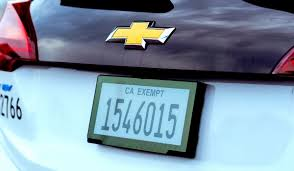number_plate: (79, 70, 217, 158)
